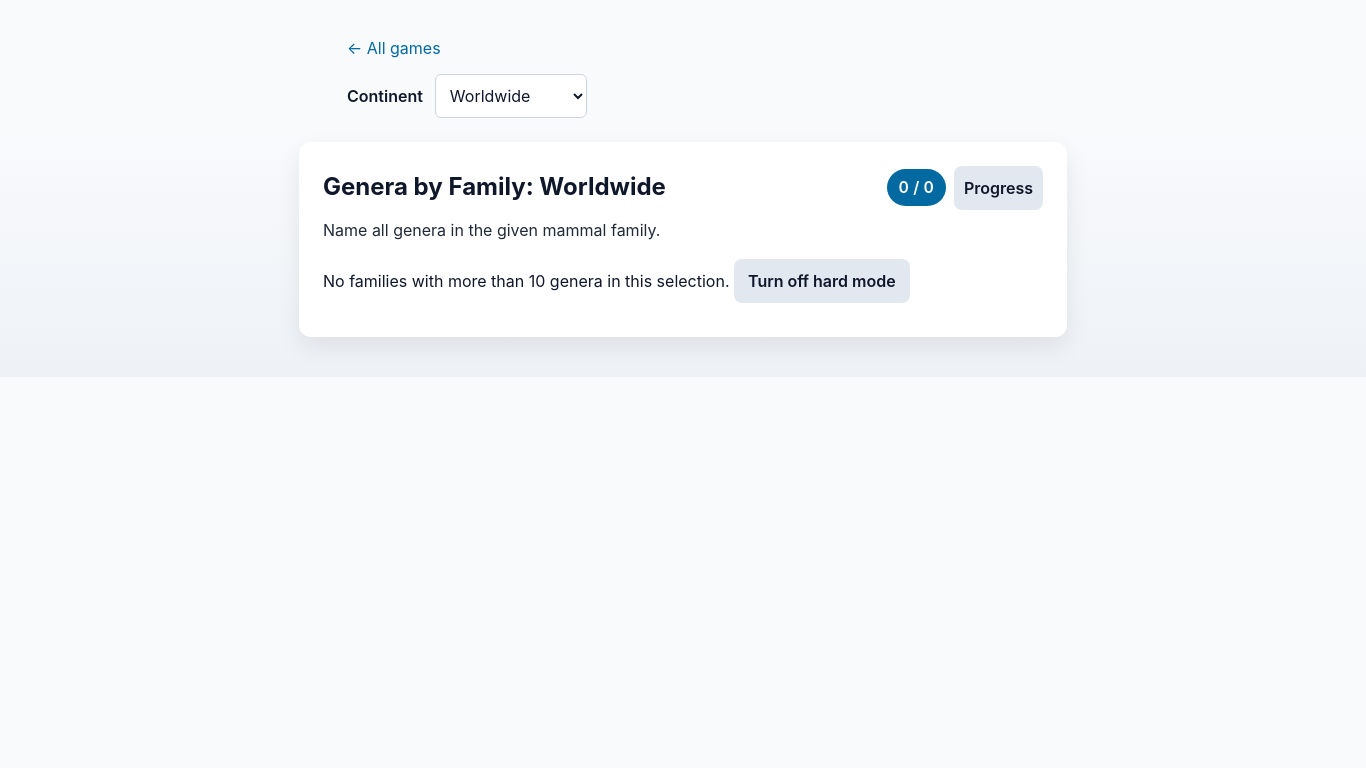
Scenario: hard mode never falls back to a different set when no large families remain
Expected: the text "No families with more than 10 genera in this selection. Turn off hard mode" is shown, [323,259,910,303]
What coordinates should you click on to do the following:
click the button "Turn off hard mode"
I would click on:
 (822, 281)
Its box is [734,259,910,303].
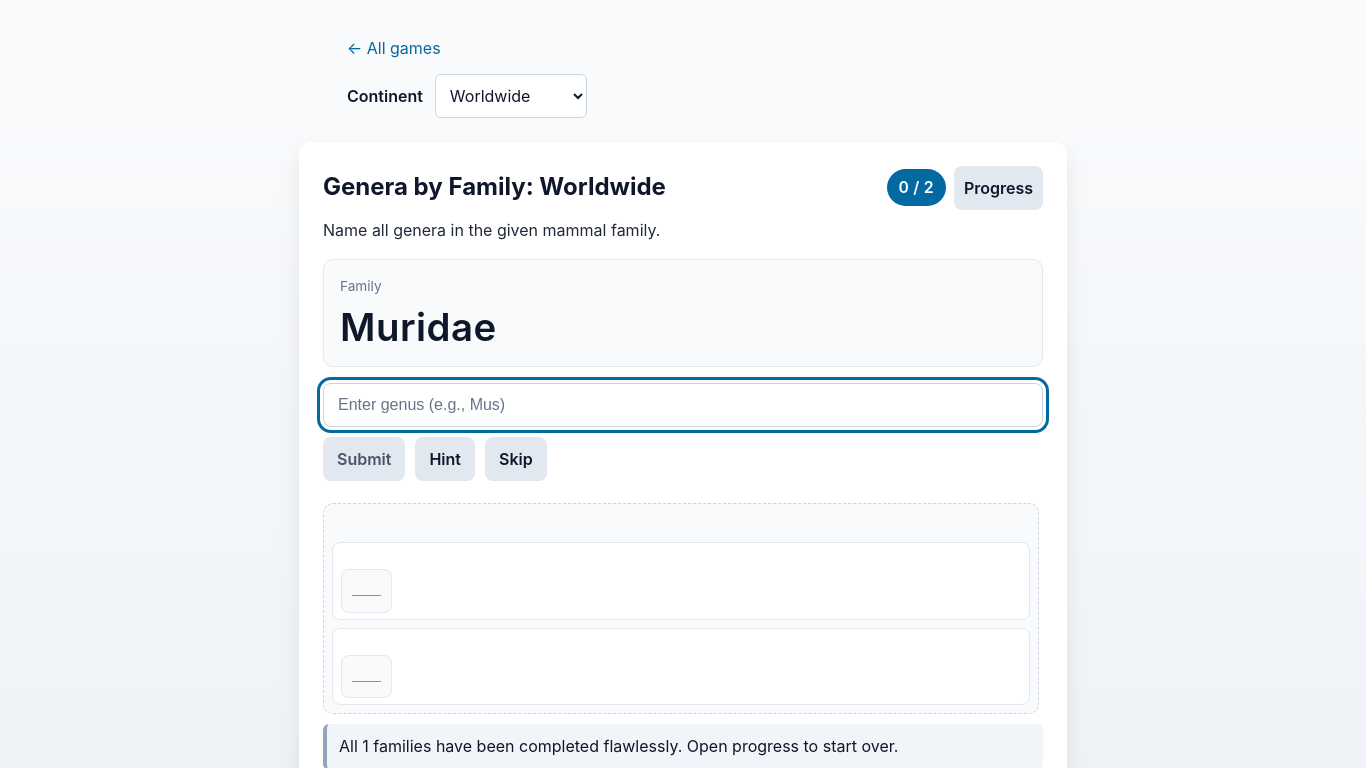
Result: the field labelled "genus" is shown at [323,383,1043,427]
